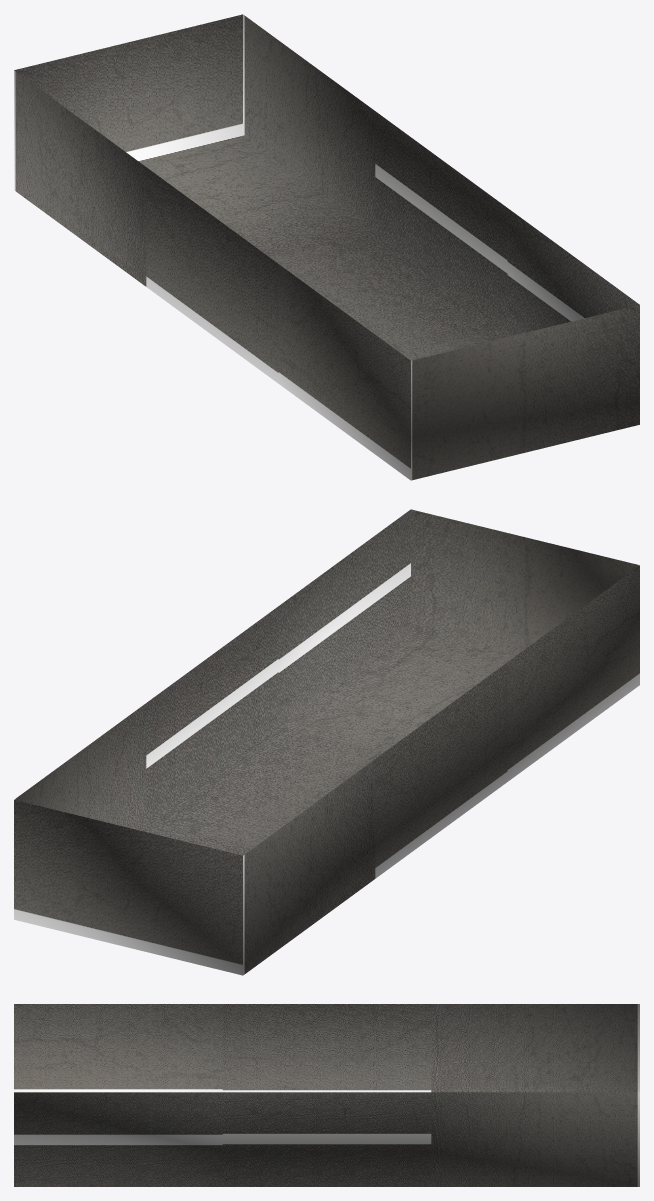
File: road.111.fbx
The picture shows the model from 3 angles, top to bottom: view 1: azimuth 30°, elevation 25°; view 2: azimuth 150°, elevation 25°; view 3: azimuth 270°, elevation 25°; orthographic projection. The views are drawn at different scales.
Parts seen in each view (by area): view 1: road_111_begin, road_111_end, road_111_center; view 2: road_111_end, road_111_begin, road_111_center; view 3: road_111_center, road_111_begin, road_111_end.
Part boxes in pixels (x1,y1,x2,y2): road_111_begin: [14, 14, 375, 286]; road_111_end: [278, 208, 639, 480]; road_111_center: [146, 111, 507, 383]; road_111_end: [278, 509, 639, 781]; road_111_begin: [14, 703, 375, 975]; road_111_center: [146, 606, 507, 878]; road_111_center: [222, 1004, 431, 1186]; road_111_begin: [431, 1004, 639, 1186]; road_111_end: [14, 1004, 222, 1186].
Size of the model in its own units: 8 by 4 by 24.
